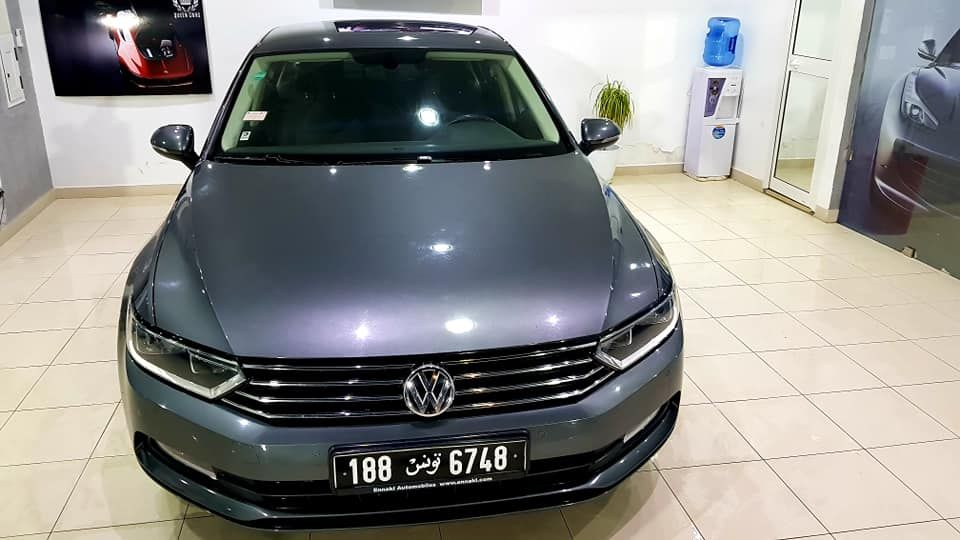LP: (333, 443, 526, 488)
